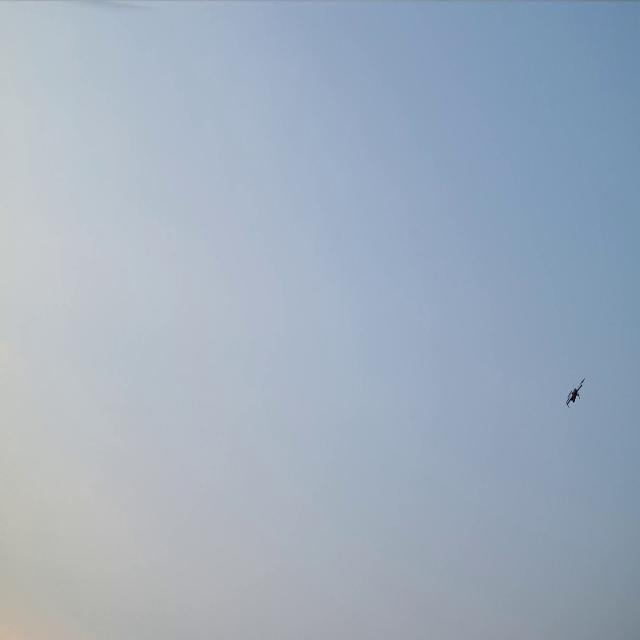UAV: (566, 380, 583, 406)
